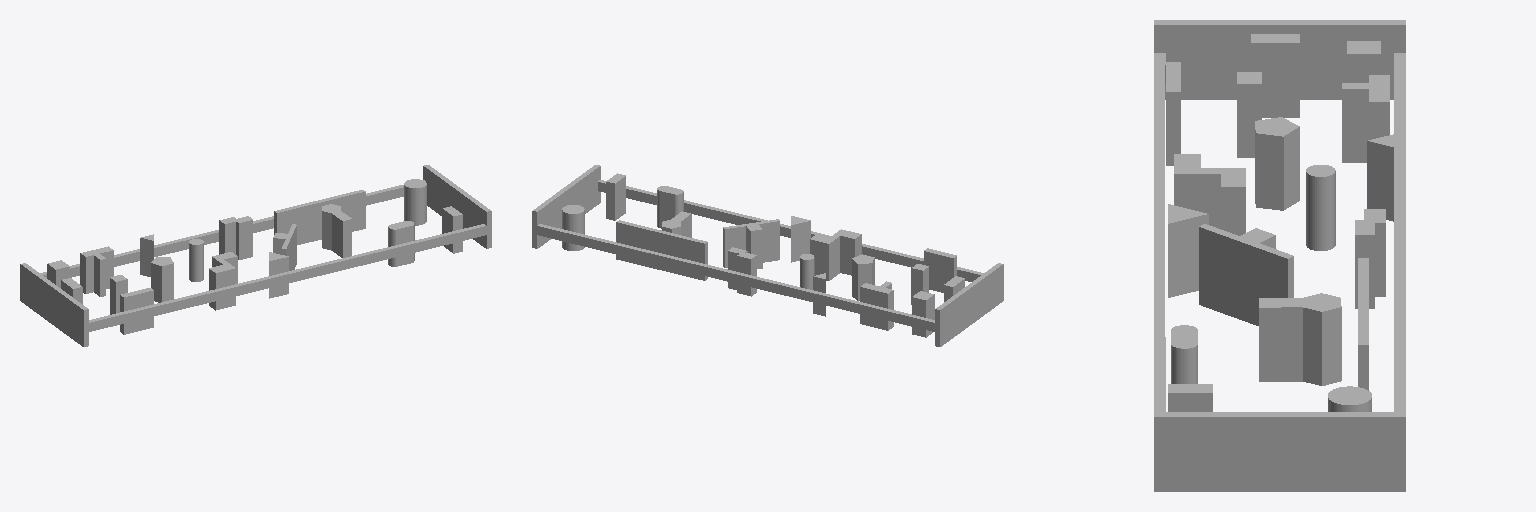
URDF robot description (cube.urdf):
<?xml version="0.0" ?>
<robot name="cube.urdf">
  <link concave="yes" name="baseLink">
    <inertial>
      <origin rpy="0 0 0" xyz="0 0 0"/>
       <mass value=".0"/>
       <inertia ixx="0" ixy="0" ixz="0" iyy="0" iyz="0" izz="0"/>
    </inertial>
    <visual>
      <origin rpy="0 0 0" xyz="0 0 0"/>
      <geometry>
				<mesh filename="dense_scaled.stl" scale="0.25 0.25 0.75"/>
      </geometry>
       <material name="gray">
        <color rgba="0.75 0.75 0.75 1"/>
      </material>
    </visual>
    <collision concave="yes">
      <origin rpy="0 0 0" xyz="0 0 0"/>
     <geometry>
				<mesh filename="dense_scaled.stl" scale="0.25 0.25 0.75"/>
      </geometry>
    </collision>
  </link>
</robot>

--- Render facts (derived) ---
3 views of the same robot in one strip: view 1: azimuth 30°, elevation 25°; view 2: azimuth 150°, elevation 25°; view 3: azimuth 270°, elevation 25° (orthographic).
Model cube.urdf with 1 links and 0 joints (none), rooted at baseLink, posed all joints at 0.
Visible links, largest first — view 1: baseLink; view 2: baseLink; view 3: baseLink.
Boxes of the visible links, x1,y1,x2,y2 form: baseLink: (20,165,491,346); baseLink: (532,165,1003,346); baseLink: (1154,20,1405,491).
Bounding box of the posed robot: 17.17 × 4.61 × 1.63 m (x, y, z).
Meshes: 1 distinct files referenced, 1 mesh visuals loaded (1 binary STL).